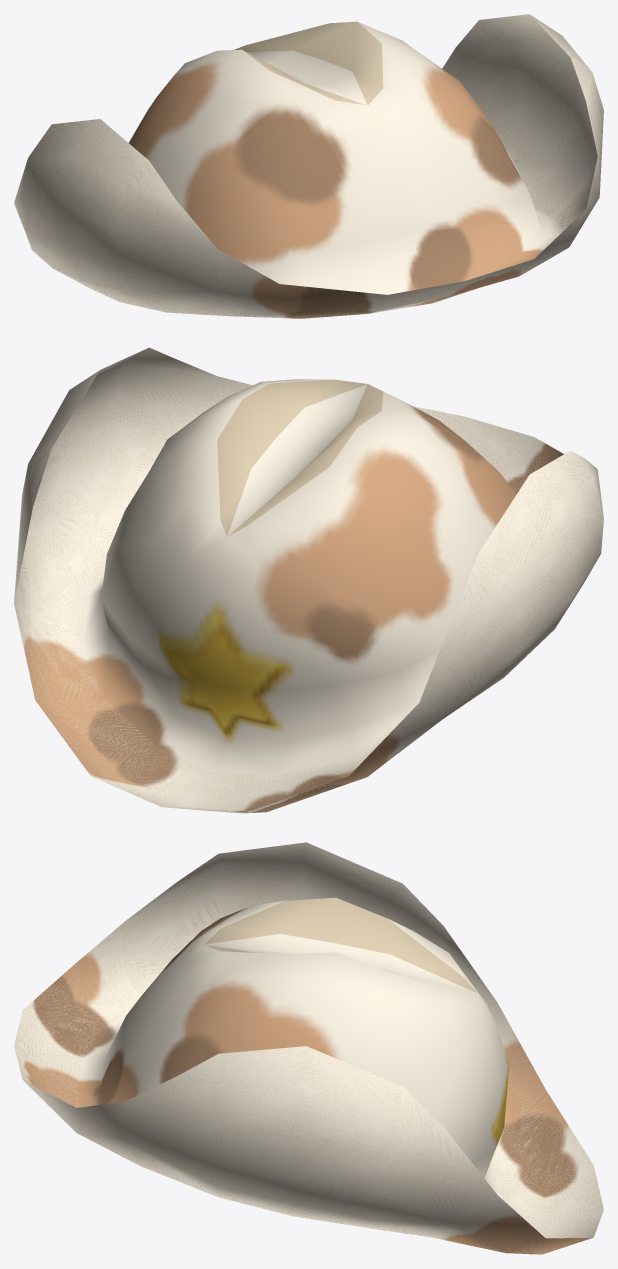
Rendered from top_acc_06.FBX.
The picture shows the model from 3 angles, top to bottom: view 1: azimuth 30°, elevation 25°; view 2: azimuth 150°, elevation 25°; view 3: azimuth 270°, elevation 25°; orthographic projection. The views are drawn at different scales.
Visible parts, largest first — view 1: top_acc_06; view 2: top_acc_06; view 3: top_acc_06.
Boxes of the visible parts, x1,y1,x2,y2 form: top_acc_06: [14, 14, 603, 318]; top_acc_06: [14, 347, 603, 813]; top_acc_06: [14, 842, 603, 1254].
Bounding box in the file's own units: 41.31 × 23.88 × 42.1.
